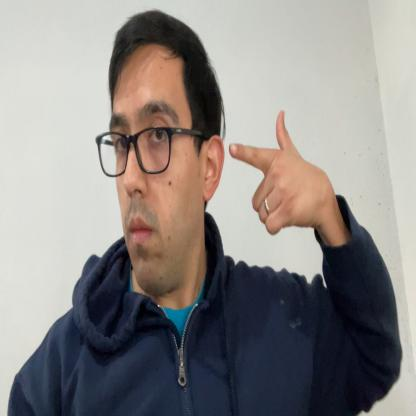G: (228, 108, 320, 236)
